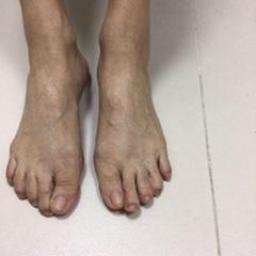Dorsal View -Both Feet-: (3, 17, 179, 228)
